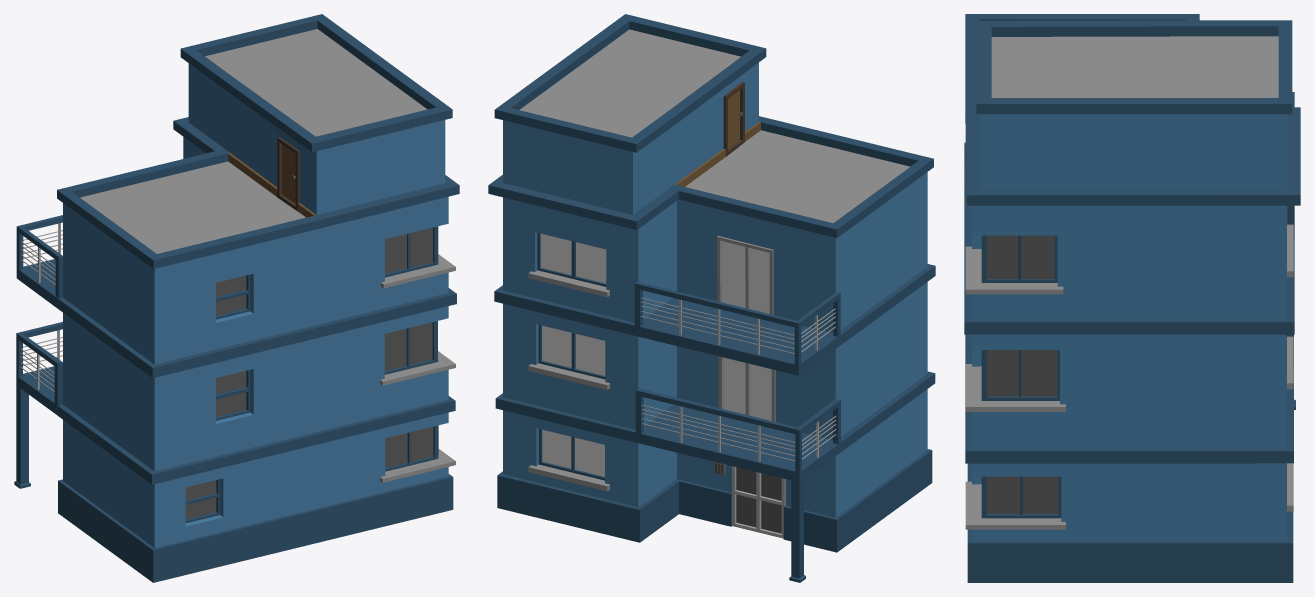
The model's file is Building B Blue.fbx.
The picture shows the model from 3 angles, left to right: view 1: azimuth 30°, elevation 25°; view 2: azimuth 150°, elevation 25°; view 3: azimuth 270°, elevation 25°; orthographic projection. The views are drawn at different scales.
Parts seen in each view (by area): view 1: Building B Blue.001; view 2: Building B Blue.001; view 3: Building B Blue.001.
Part boxes in pixels (x1,y1,x2,y2): Building B Blue.001: (14,14,459,582); Building B Blue.001: (488,14,935,582); Building B Blue.001: (964,14,1300,582).
Bounding box in the file's own units: 1363 × 1058 × 1670.
